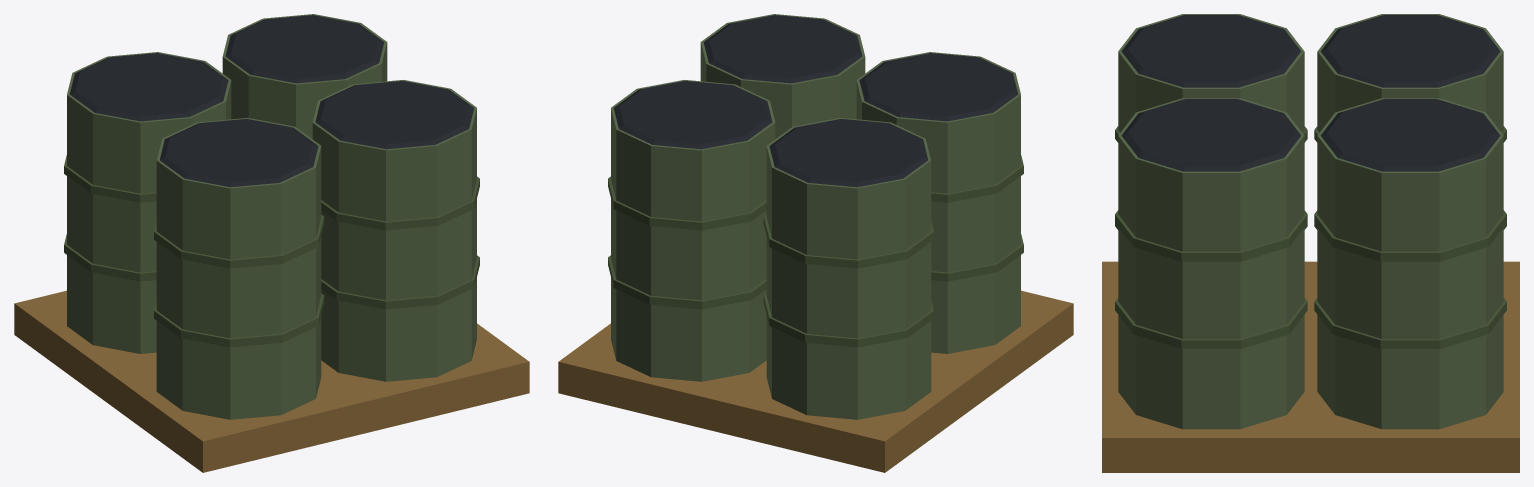
File: barrel_stack_military.glb
The picture shows the model from 3 angles, left to right: view 1: azimuth 30°, elevation 25°; view 2: azimuth 150°, elevation 25°; view 3: azimuth 270°, elevation 25°; orthographic projection. The views are drawn at different scales.
Visible parts, largest first — view 1: barrel_stack_military; view 2: barrel_stack_military; view 3: barrel_stack_military.
Boxes of the visible parts, bbox=[...] form: barrel_stack_military: bbox=[14, 14, 529, 472]; barrel_stack_military: bbox=[558, 14, 1073, 472]; barrel_stack_military: bbox=[1102, 14, 1519, 472].
Bounding box in the file's own units: 1.3 × 1.01 × 1.3.
